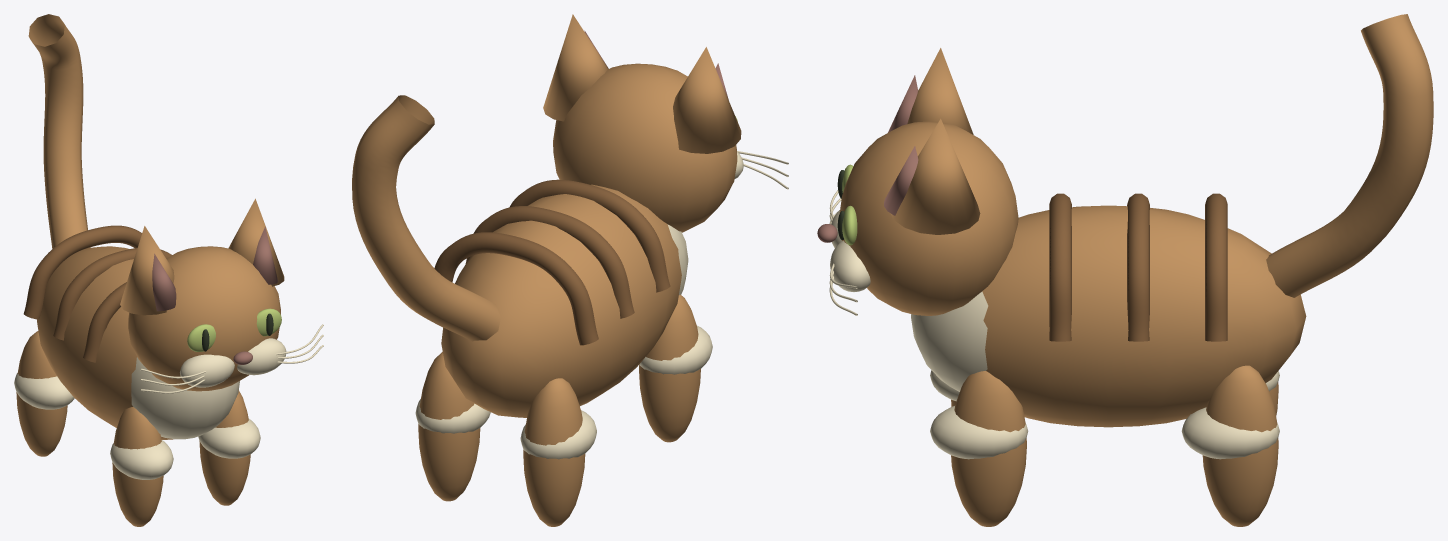
File: tabby_cat.glb
3 views of the same model, side by side, from view 1: azimuth 30°, elevation 25°; view 2: azimuth 150°, elevation 25°; view 3: azimuth 270°, elevation 25° (orthographic). The views are drawn at different scales.
Parts seen in each view (by area): view 1: CatHead, CatBody, CatTail, ChestBib, Leg0, Leg2, BackStripe.002, Leg1, PointedEar, Paw0, BackStripe.001, Paw1 (+9 smaller); view 2: CatBody, CatHead, CatTail, Leg2, Leg3, Leg0, PointedEar, BackStripe.002, BackStripe.001, BackStripe, PointedEar.001, Paw2 (+3 smaller); view 3: CatBody, CatHead, CatTail, Leg3, Leg1, PointedEar.001, ChestBib, BackStripe.002, BackStripe, BackStripe.001, Paw1, Paw3 (+3 smaller).
Boxes of the visible parts, x1,y1,x2,y2 form: CatHead: (128, 246, 280, 391); CatBody: (37, 246, 173, 439); CatTail: (28, 14, 89, 248); ChestBib: (131, 357, 239, 439); Leg0: (112, 407, 163, 526); Leg2: (16, 331, 67, 456); BackStripe.002: (23, 225, 141, 319); Leg1: (199, 390, 250, 505); PointedEar: (120, 226, 174, 315); Paw0: (110, 440, 173, 479); BackStripe.001: (53, 248, 171, 340); Paw1: (198, 419, 260, 458); CatBody: (441, 184, 681, 417); CatHead: (553, 63, 737, 232); CatTail: (352, 95, 500, 341); Leg2: (523, 378, 585, 526); Leg3: (418, 352, 480, 501); Leg0: (639, 294, 700, 442); PointedEar: (673, 47, 741, 153); BackStripe.002: (434, 232, 598, 345); BackStripe.001: (465, 206, 634, 318); BackStripe: (509, 179, 670, 292); PointedEar.001: (543, 14, 608, 121); Paw2: (520, 410, 596, 459); CatBody: (982, 205, 1306, 427); CatHead: (839, 121, 1018, 315); CatTail: (1266, 14, 1433, 297); Leg3: (1202, 365, 1278, 526); Leg1: (951, 371, 1026, 526); PointedEar.001: (890, 118, 980, 234); ChestBib: (911, 291, 988, 391); BackStripe.002: (1205, 193, 1227, 341); BackStripe: (1049, 193, 1071, 341); BackStripe.001: (1127, 193, 1149, 341); Paw1: (930, 406, 1028, 459); Paw3: (1181, 407, 1279, 459).
Bounding box in the file's own units: 0.4621 × 0.9186 × 1.03.
